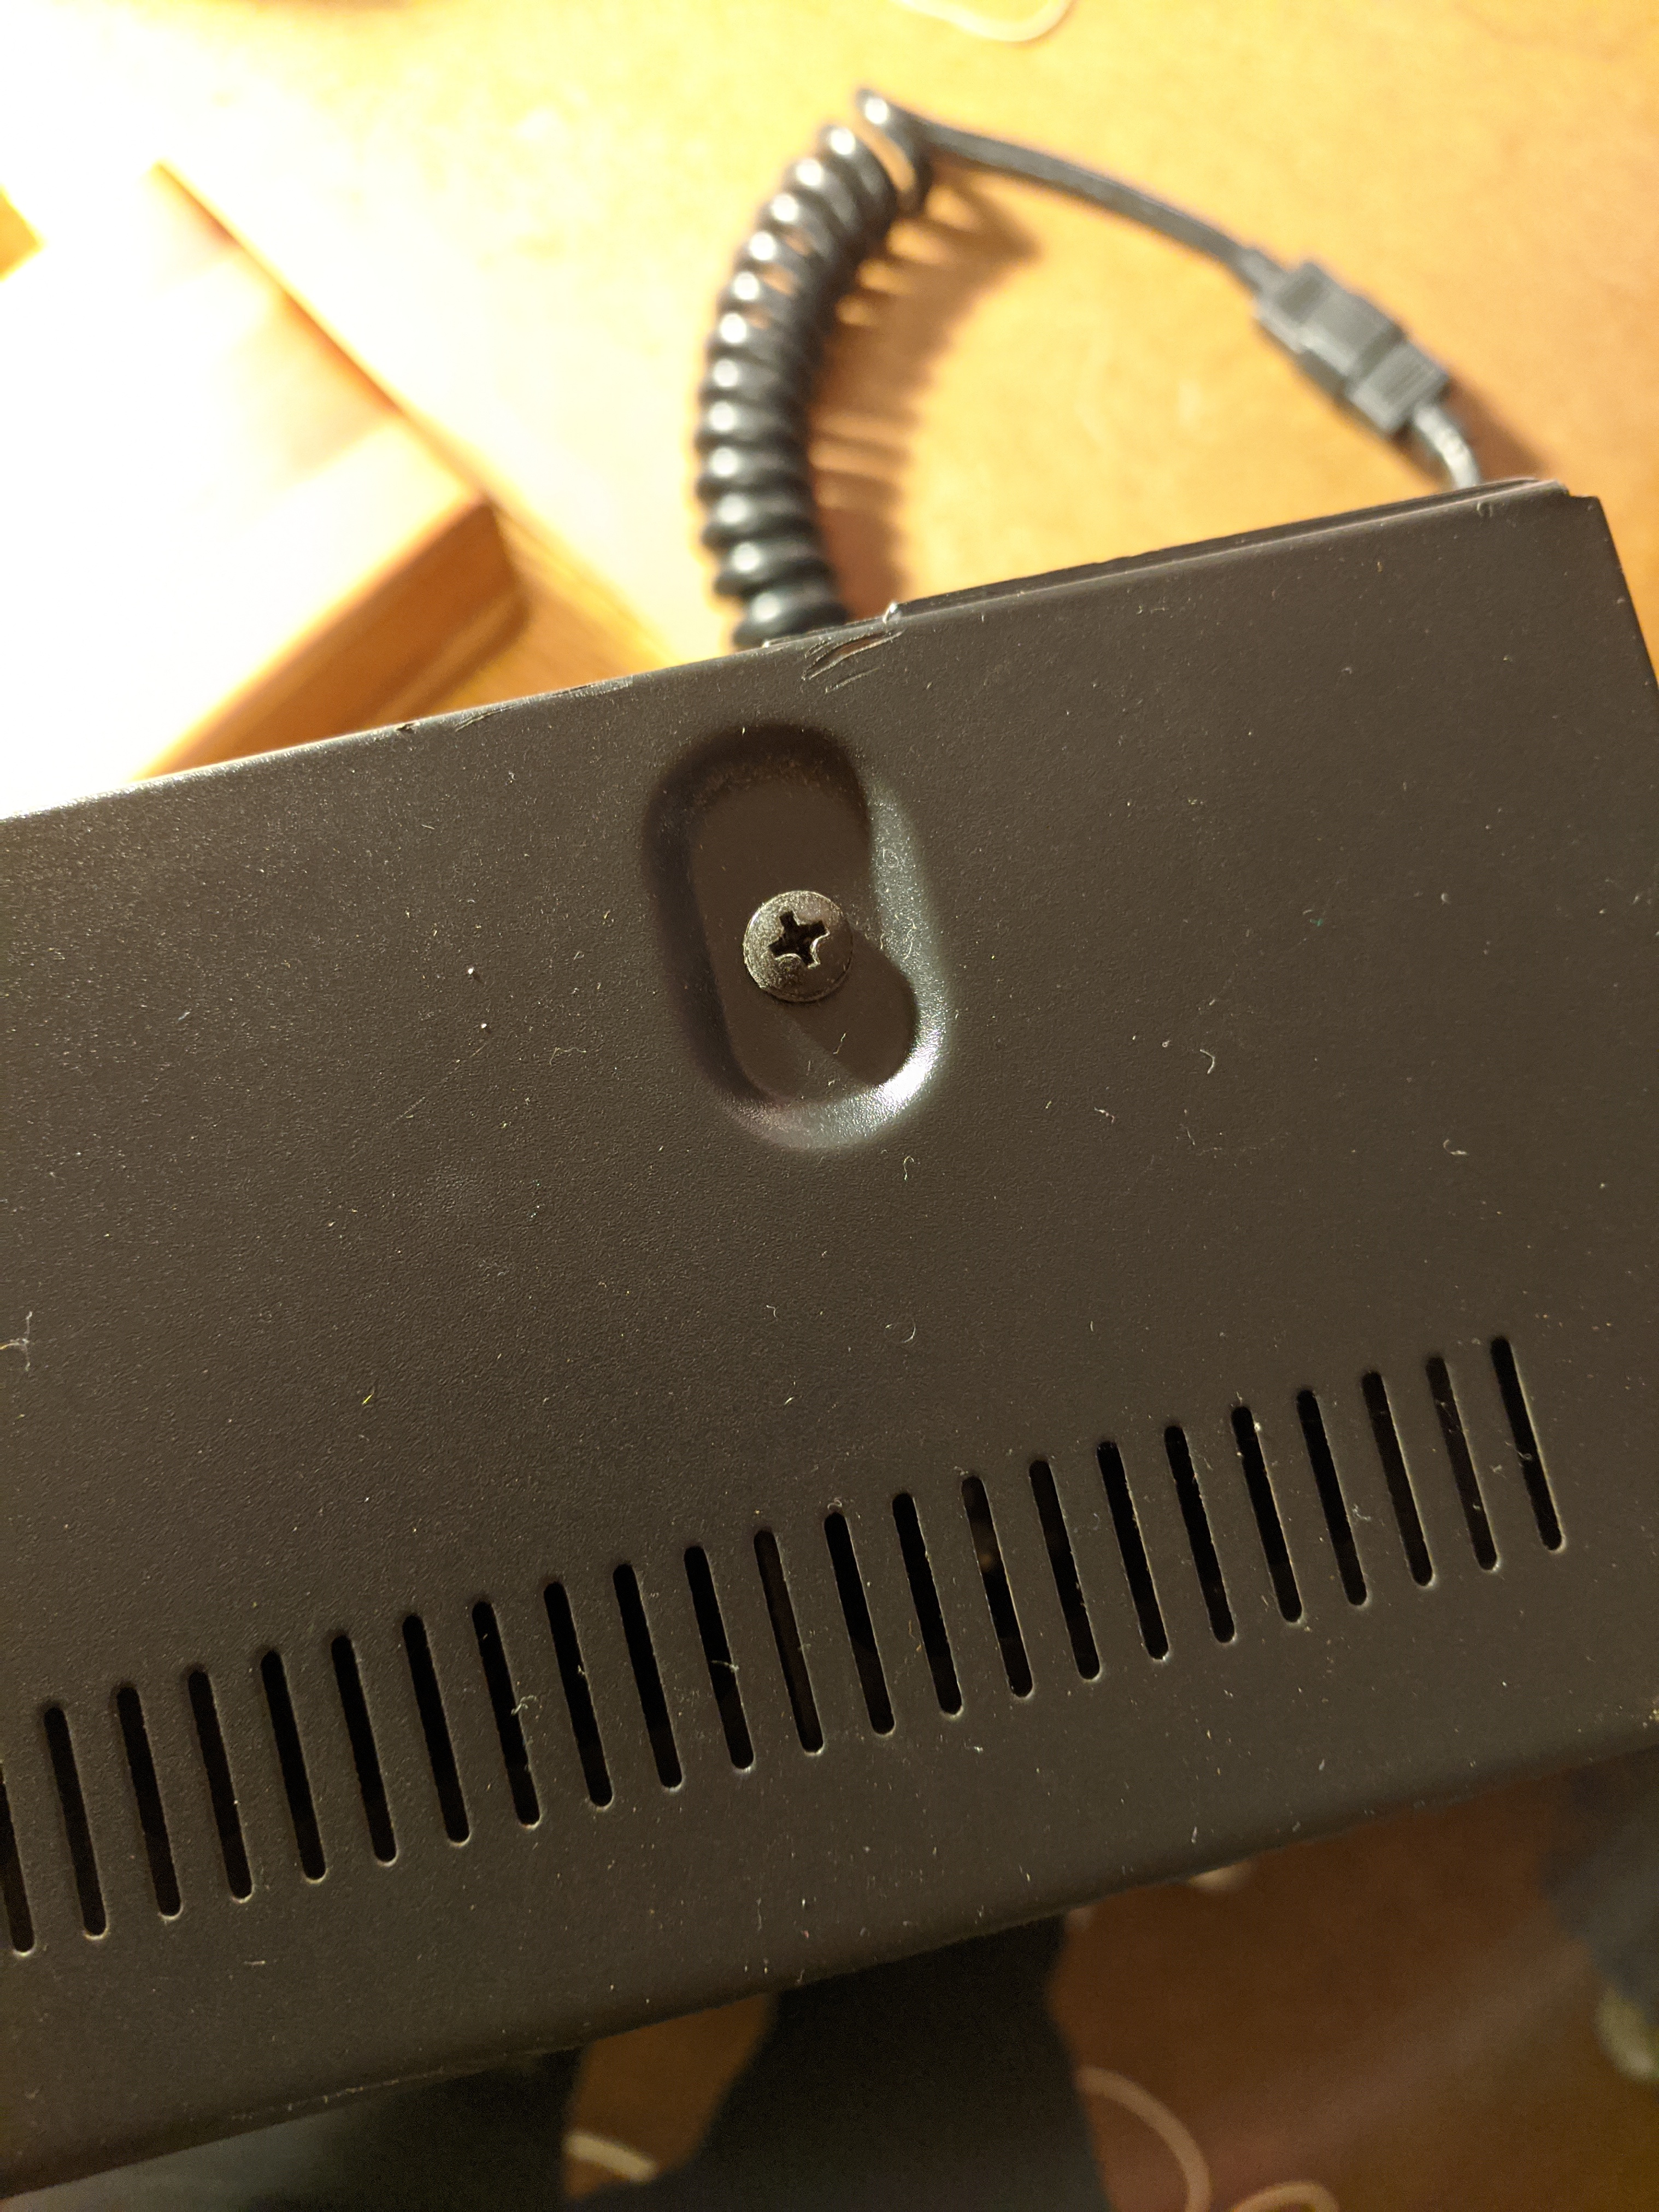cross_recessed_screw: (739, 866, 856, 993)
